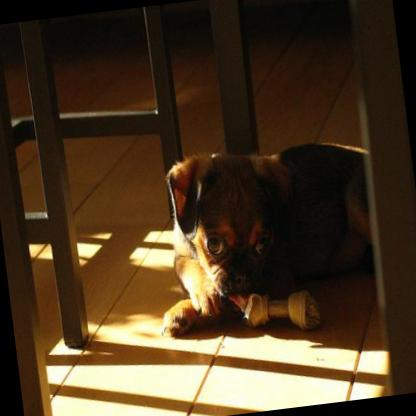Brabancon_griffon: (142, 135, 386, 350)
